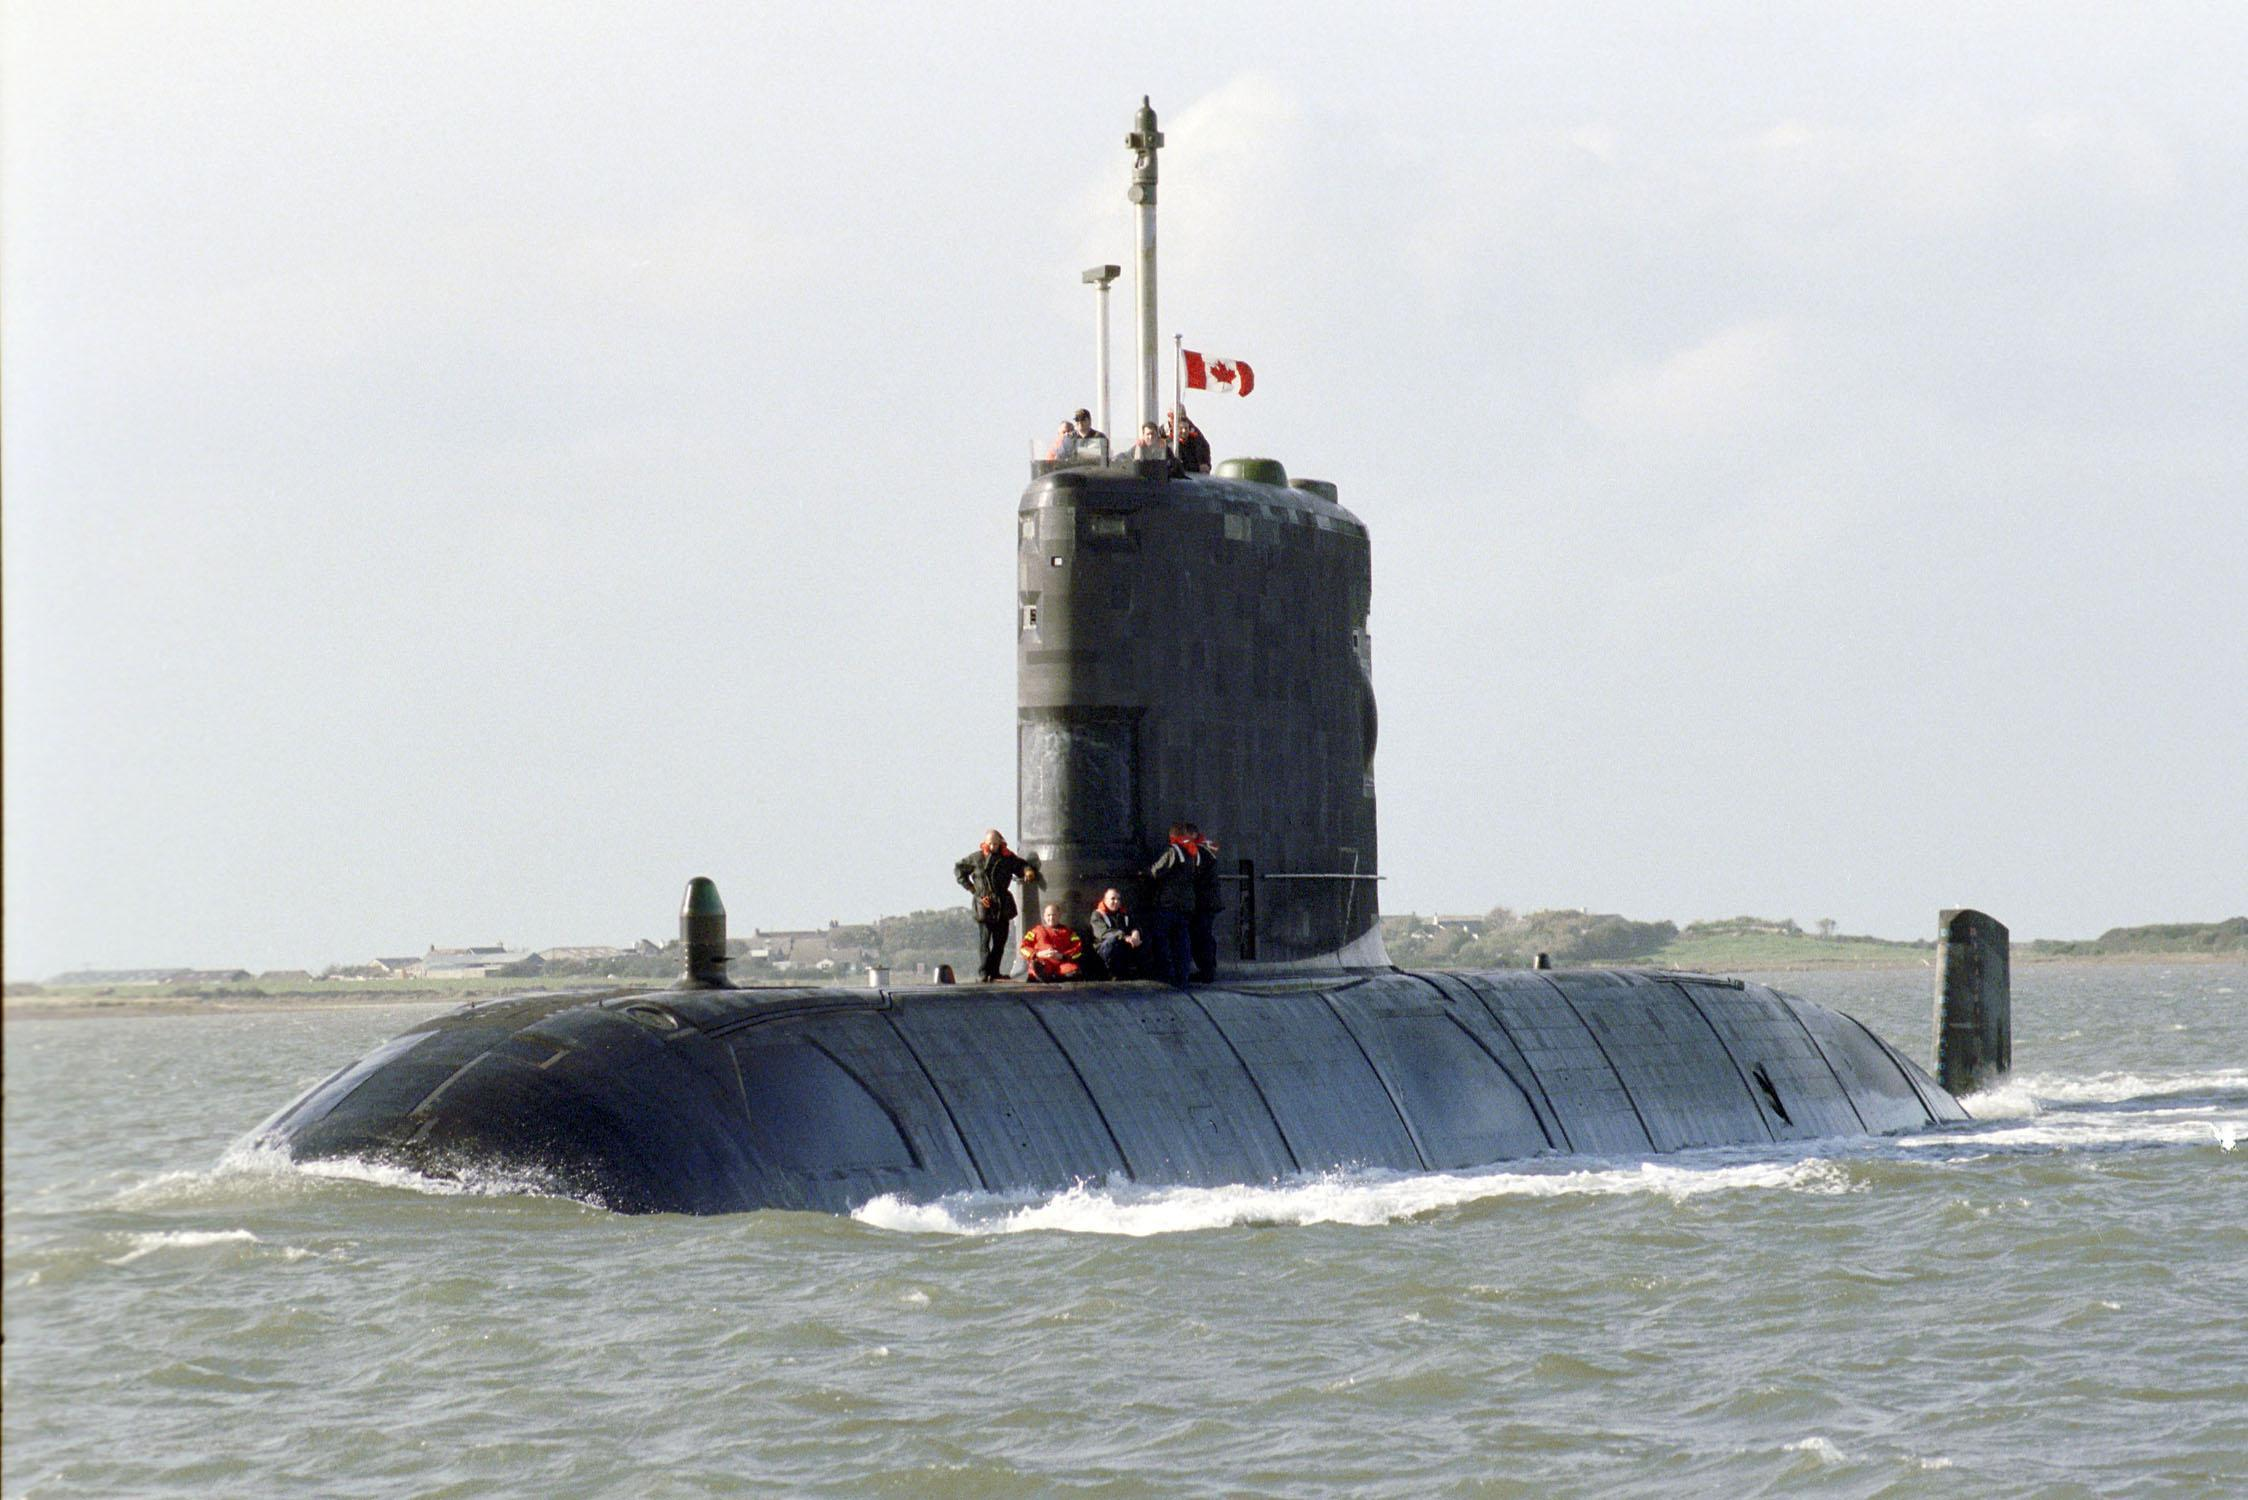Submarine: (107, 44, 2248, 1426)
